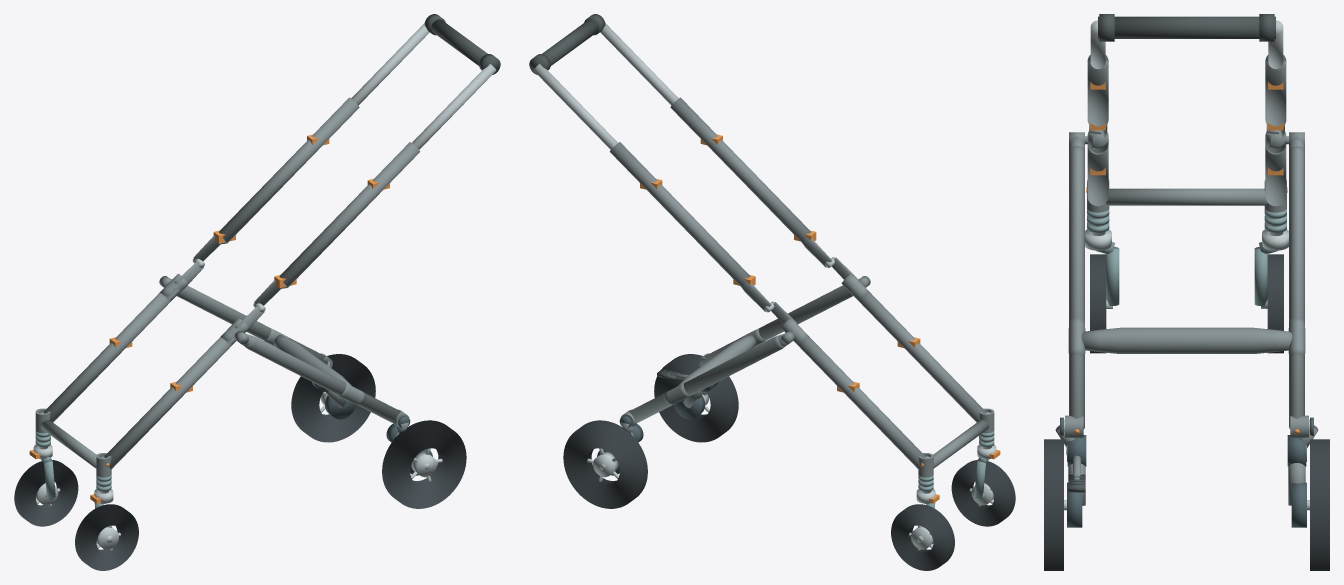
File: frame_380.glb
3 renders of one model, left to right at view 1: azimuth 30°, elevation 25°; view 2: azimuth 150°, elevation 25°; view 3: azimuth 270°, elevation 25°, orthographic. The views are drawn at different scales.
Parts seen in each view (by area): view 1: RL_tire.009, RR_tire.009, FL_tire.009, main_upper_-1, main_upper_1, FR_tire.009, main_lower_1, main_lower_-1, V46_rear_leg_-1.002, V46_rear_leg_1.002, handle_slider_-1.010, handle_slider_1.010 (+3 smaller); view 2: RR_tire.009, RL_tire.009, FR_tire.009, main_upper_1, main_upper_-1, FL_tire.009, main_lower_-1, main_lower_1, V46_rear_leg_1.002, V46_rear_leg_-1.002, handle_slider_1.010, handle_slider_-1.010 (+3 smaller); view 3: V46_rearbar.002, V46_rear_leg_1.002, V46_rear_leg_-1.002, round_handle.010, front_fixed_round_tube, RL_tire.009, RR_tire.009, FL_tire.009, FR_tire.009, main_upper_1, main_upper_-1, main_lower_1 (+18 smaller).
Part boxes in pixels (bbox=[...]): RL_tire.009: bbox=[382, 420, 466, 508]; RR_tire.009: bbox=[291, 354, 375, 442]; FL_tire.009: bbox=[75, 504, 138, 570]; main_upper_-1: bbox=[279, 142, 420, 287]; main_upper_1: bbox=[219, 97, 359, 242]; FR_tire.009: bbox=[14, 460, 78, 526]; main_lower_1: bbox=[43, 289, 179, 422]; main_lower_-1: bbox=[104, 337, 234, 469]; V46_rear_leg_-1.002: bbox=[245, 335, 400, 423]; V46_rear_leg_1.002: bbox=[177, 285, 328, 364]; handle_slider_-1.010: bbox=[412, 64, 496, 149]; handle_slider_1.010: bbox=[351, 23, 429, 105]; RR_tire.009: bbox=[563, 420, 647, 508]; RL_tire.009: bbox=[654, 354, 738, 442]; FR_tire.009: bbox=[891, 504, 954, 570]; main_upper_1: bbox=[609, 142, 750, 287]; main_upper_-1: bbox=[670, 97, 810, 242]; FL_tire.009: bbox=[951, 460, 1015, 526]; main_lower_-1: bbox=[850, 289, 986, 422]; main_lower_1: bbox=[795, 337, 925, 469]; V46_rear_leg_1.002: bbox=[629, 335, 784, 423]; V46_rear_leg_-1.002: bbox=[701, 285, 852, 364]; handle_slider_1.010: bbox=[533, 64, 617, 149]; handle_slider_-1.010: bbox=[600, 23, 678, 105]; V46_rearbar.002: bbox=[1081, 327, 1292, 353]; V46_rear_leg_1.002: bbox=[1289, 146, 1304, 429]; V46_rear_leg_-1.002: bbox=[1069, 146, 1084, 429]; round_handle.010: bbox=[1098, 16, 1275, 38]; front_fixed_round_tube: bbox=[1106, 188, 1267, 205]; RL_tire.009: bbox=[1044, 439, 1063, 570]; RR_tire.009: bbox=[1310, 439, 1329, 570]; FL_tire.009: bbox=[1090, 254, 1106, 353]; FR_tire.009: bbox=[1267, 254, 1283, 353]; main_upper_1: bbox=[1265, 55, 1286, 126]; main_upper_-1: bbox=[1087, 55, 1108, 126]; main_lower_1: bbox=[1265, 145, 1286, 206].
Bounding box in the file's own units: 1.09 × 1.02 × 0.434.
